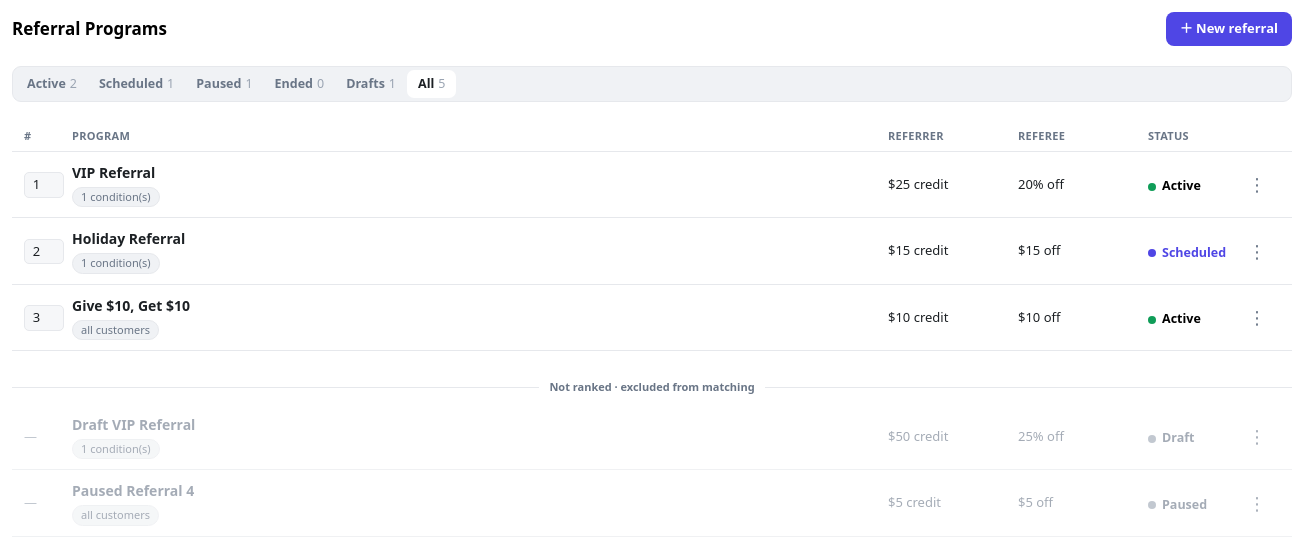
Test: status filter Paused shows only paused programs under the divider
Click the button "Paused1" at [224, 84], box [185, 70, 264, 98]
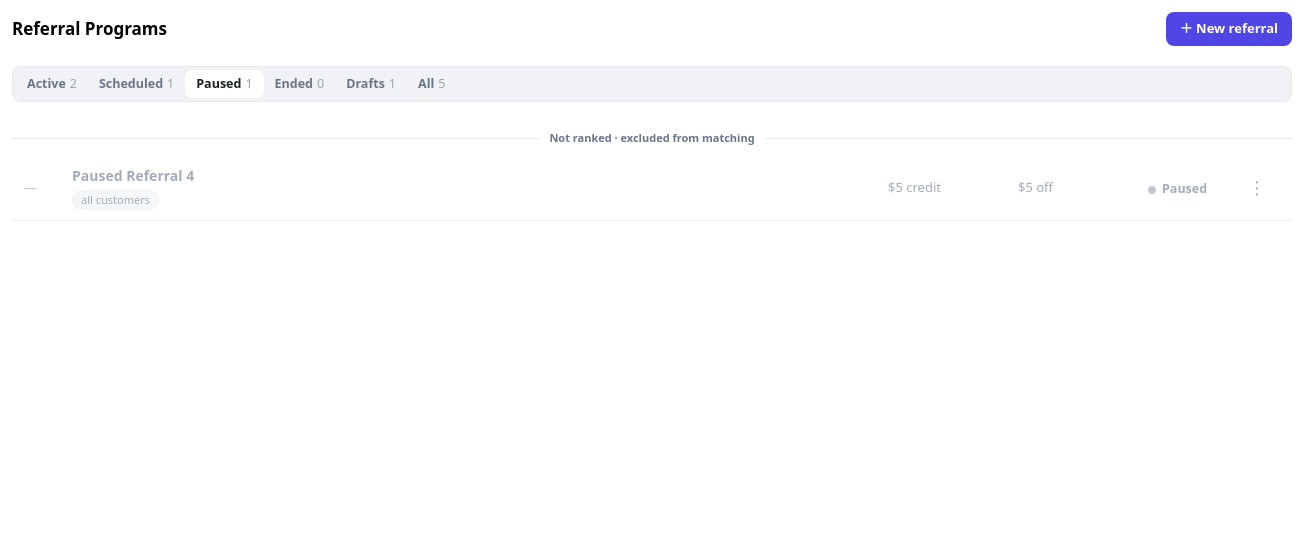
Expected: the text "Give $10, Get $10" is gone
Expected: the text "VIP Referral" is gone
Expected: the text "Holiday Referral" is gone
